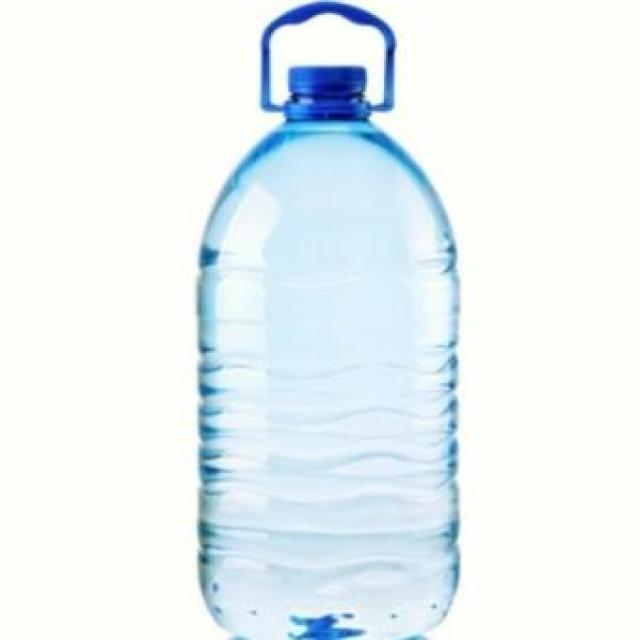bottle: (192, 4, 467, 640)
